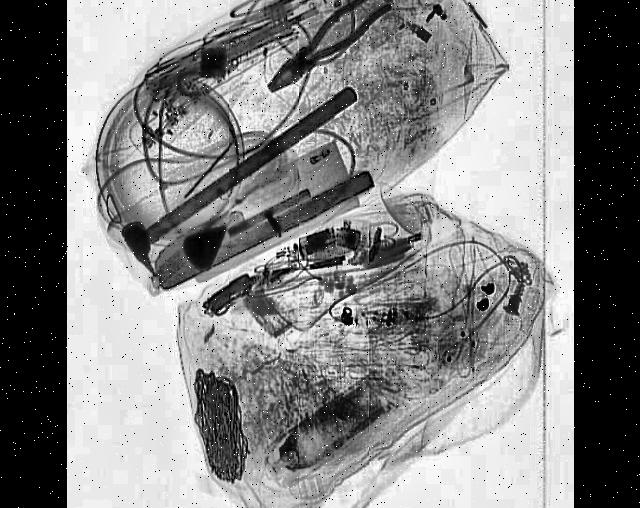Pliers: (260, 0, 394, 109)
